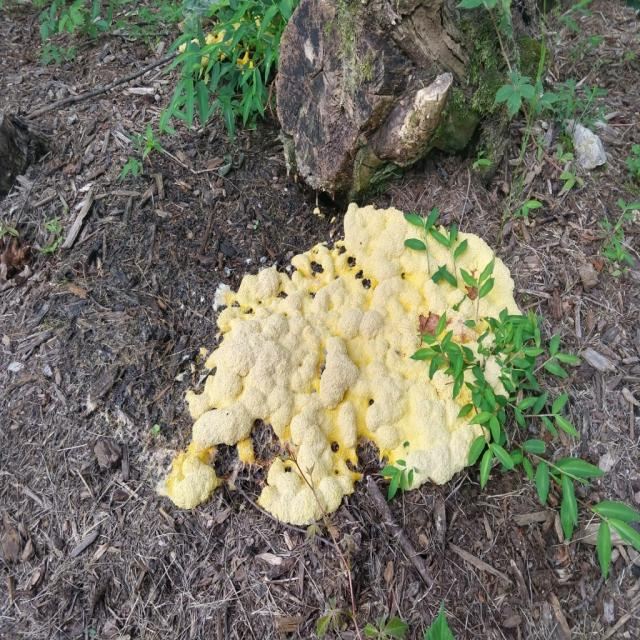Dog_vomit_slime_mold: (147, 160, 516, 541)
